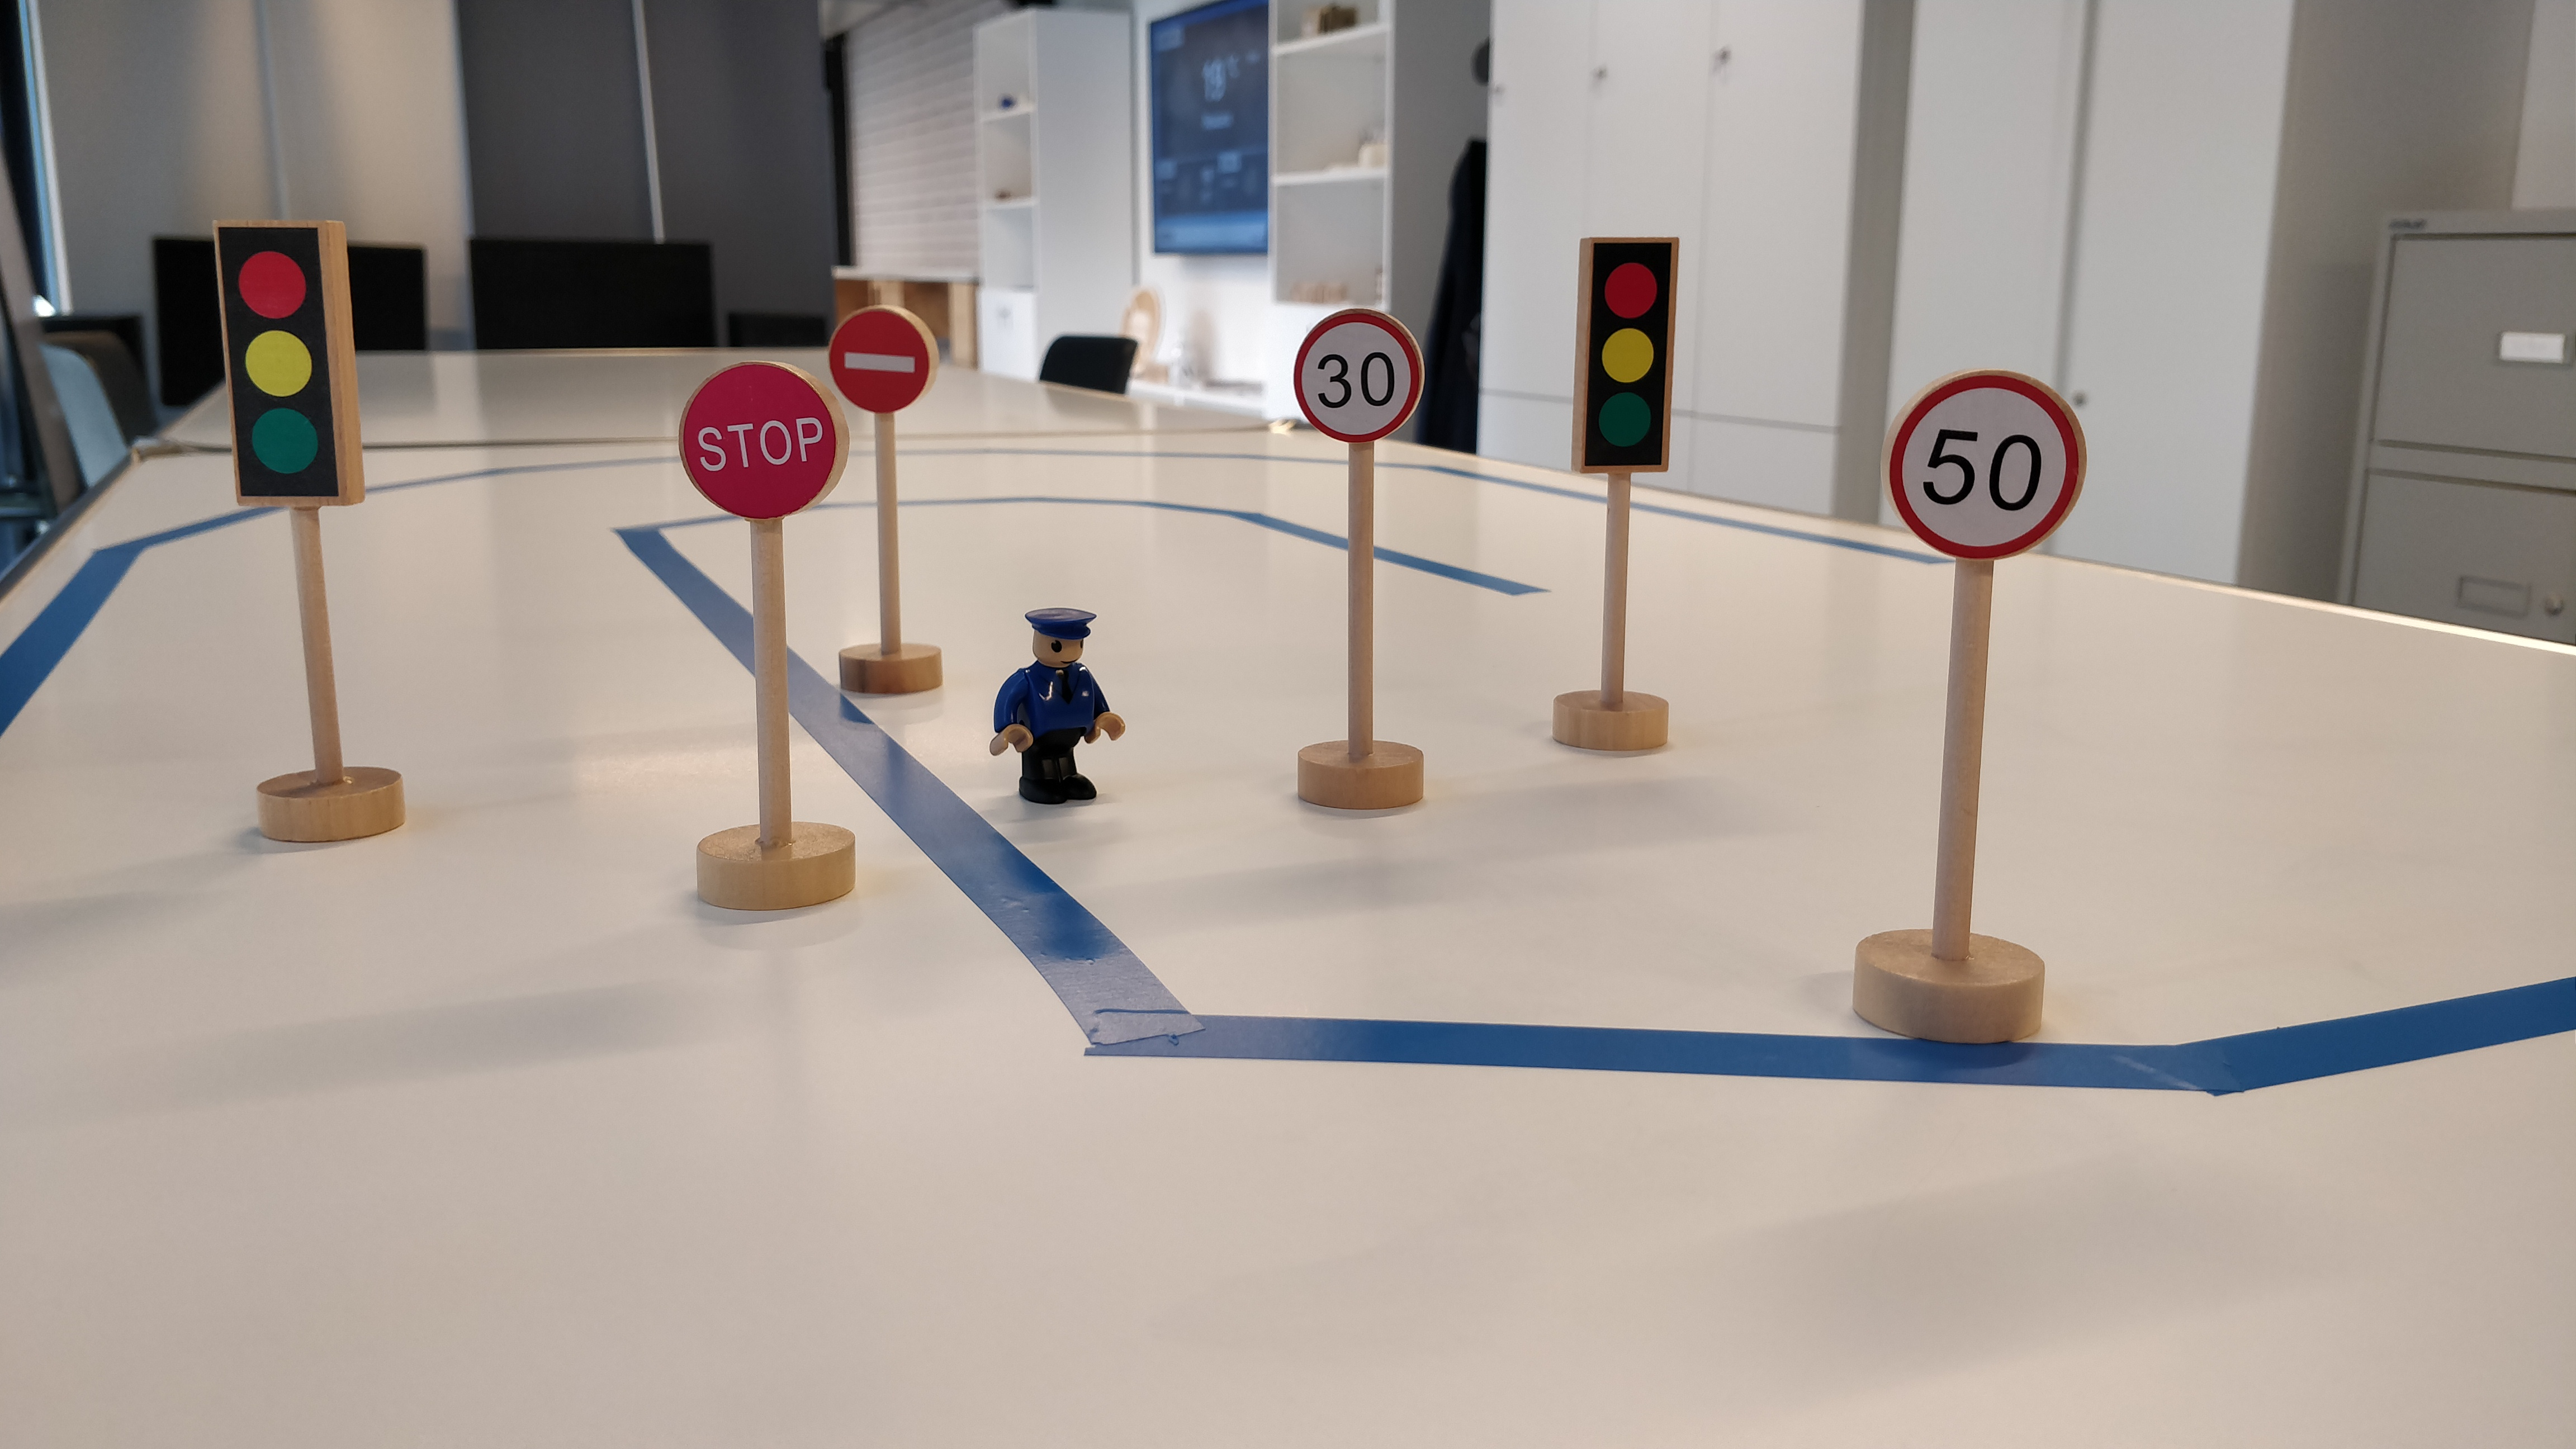Person: (982, 599, 1131, 809)
Prohibition Sign: (829, 308, 942, 411)
Speed Limit 30: (1286, 303, 1425, 449)
Speed Limit 50: (1879, 366, 2093, 561)
Stop Sign: (676, 362, 853, 523)
Traffic Light: (206, 214, 371, 504), (1569, 231, 1678, 477)
